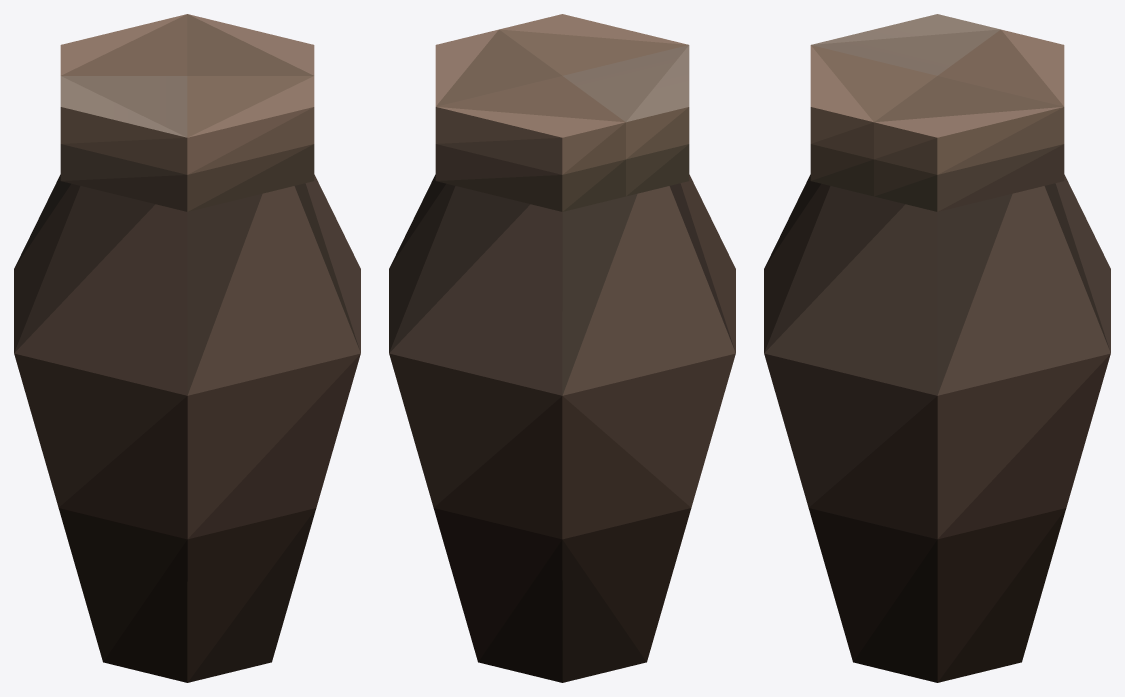
Rendered from prop_container_vase_4.fbx.
3 renders of one model, left to right at view 1: azimuth 30°, elevation 25°; view 2: azimuth 150°, elevation 25°; view 3: azimuth 270°, elevation 25°, orthographic.
Parts seen in each view (by area): view 1: prop_container_vase_4; view 2: prop_container_vase_4; view 3: prop_container_vase_4.
Boxes of the visible parts, box(x1,y1,x2,y2) form: prop_container_vase_4: box(14, 14, 360, 682); prop_container_vase_4: box(389, 14, 735, 682); prop_container_vase_4: box(764, 14, 1110, 682).
Bounding box in the file's own units: 0.3639 × 0.5674 × 0.3151.
